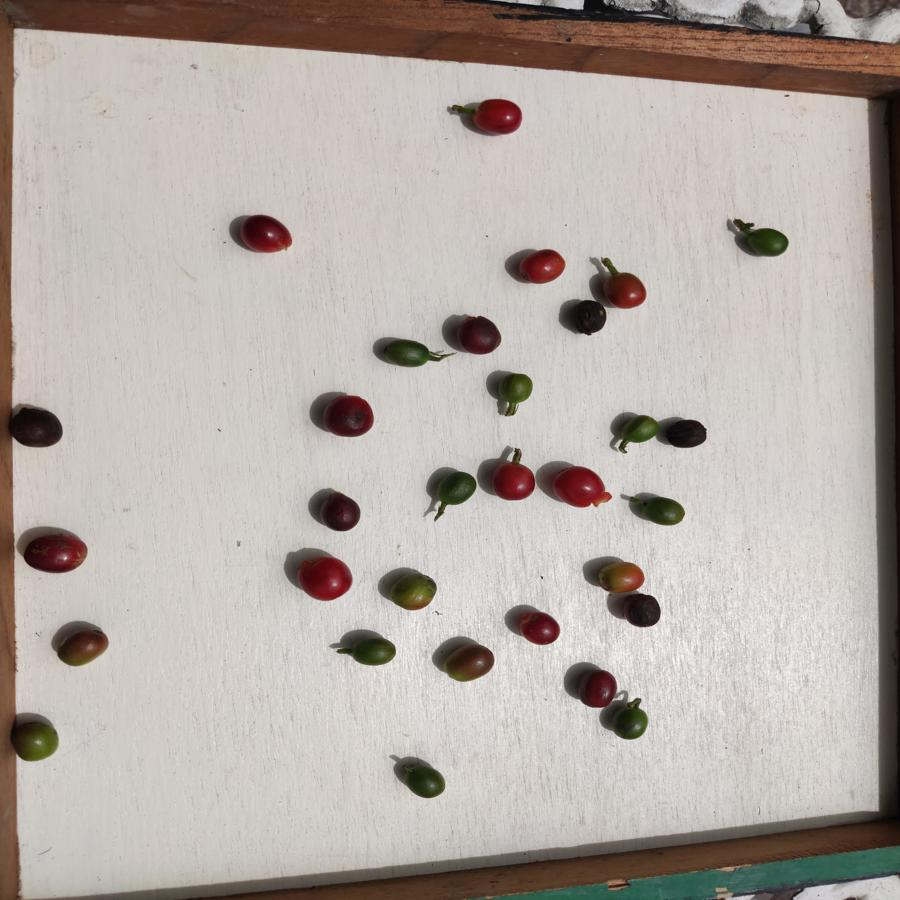Inmaduro: (403, 756, 448, 802), (639, 490, 688, 530), (380, 334, 431, 372), (741, 223, 792, 259), (612, 701, 652, 743), (435, 470, 478, 506), (347, 637, 400, 666), (619, 413, 660, 445), (496, 372, 535, 405)
Maduro: (551, 460, 610, 512), (238, 208, 295, 258), (293, 554, 353, 601), (469, 93, 524, 140), (602, 267, 653, 312), (489, 458, 538, 503), (516, 247, 568, 286)
Pinton: (53, 625, 112, 674), (443, 638, 498, 685), (11, 717, 61, 768), (388, 569, 441, 612), (595, 557, 645, 598)
Sobremaduro: (18, 533, 94, 575), (12, 405, 67, 453), (319, 396, 379, 438), (317, 488, 363, 532), (519, 608, 565, 652), (572, 668, 618, 711), (455, 314, 502, 355), (665, 415, 708, 451), (566, 298, 608, 334), (624, 593, 665, 629)
